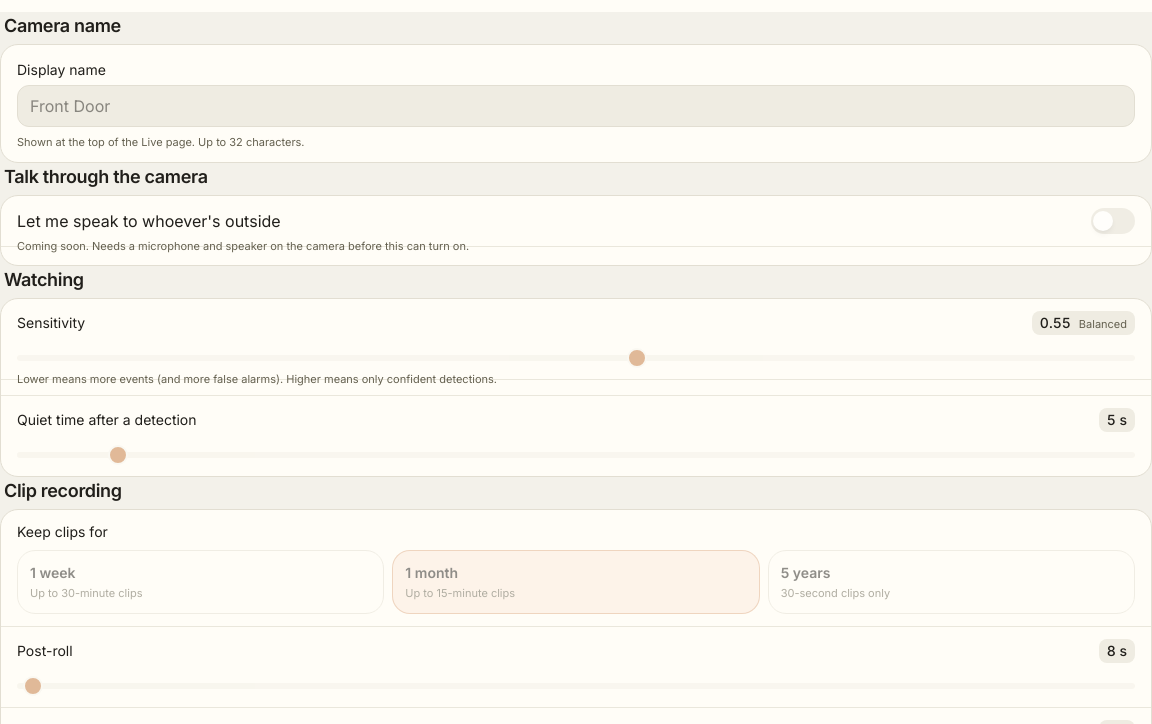
Scenario: DetectionSection › Given the sensitivity value moves across boundary values, When the slider changes, Then the plain-word qualifier updates with the numeric readout
The width and height of the screenshot is (1152, 724).
Set the slider named "detection sensitivity" to "0.4". click: (454, 358)
box: [17,355,1135,361]
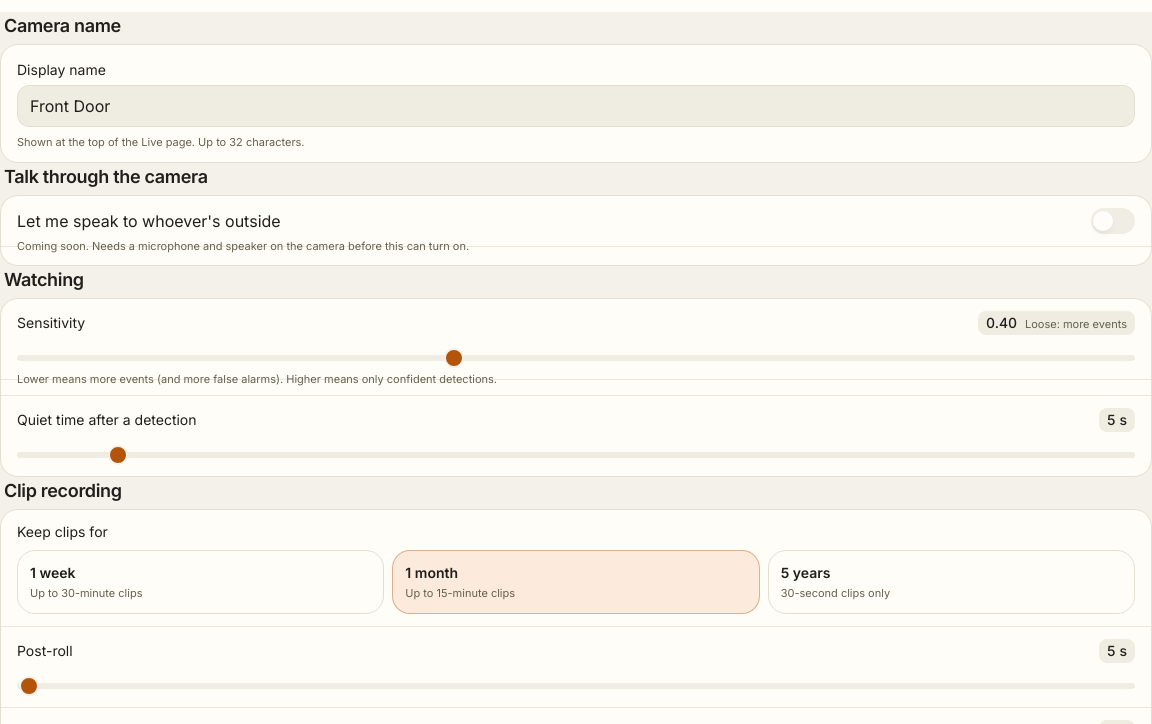
Expected: the text "0.40" is shown, [986,313,1017,333]
Expected: the text "Loose: more events" is shown, [1025,317,1127,332]
Set the slider named "detection sensitivity" to "0.45". click: (515, 358)
box: [17,355,1135,361]
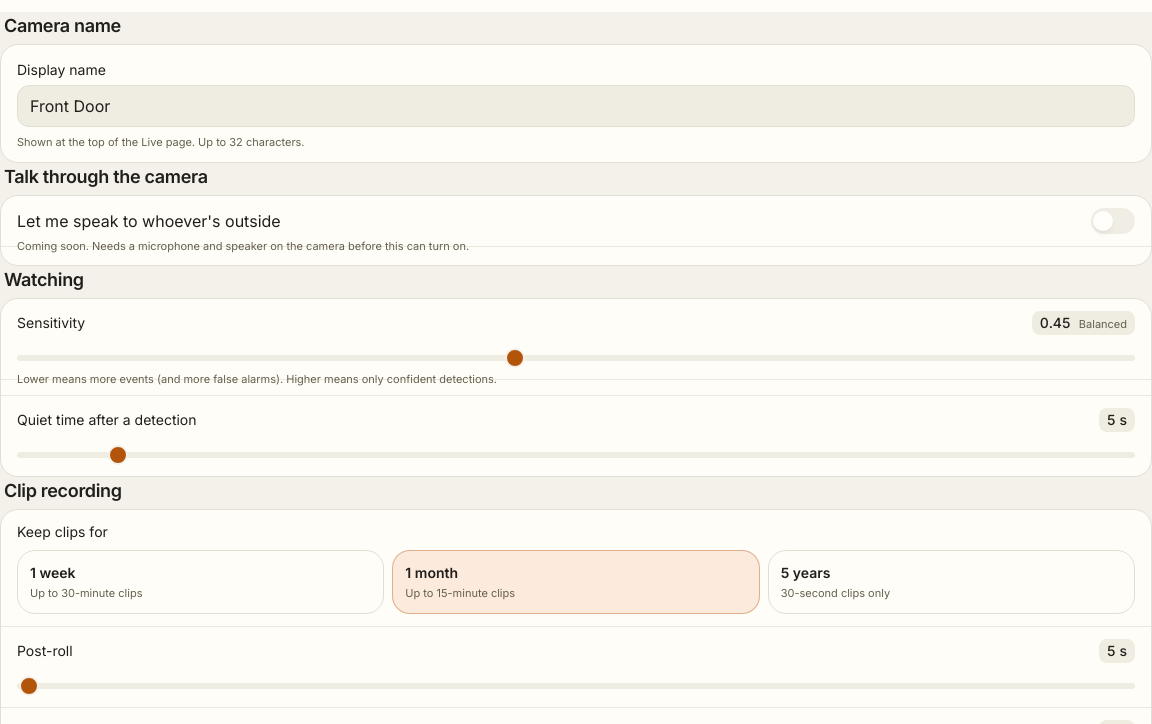
Expected: the text "0.45" is shown, [1040,313,1071,333]
Expected: the text "Balanced" is shown, [1079,317,1127,332]
Set the slider named "detection sensitivity" to "0.7". click: (821, 358)
box: [17,355,1135,361]
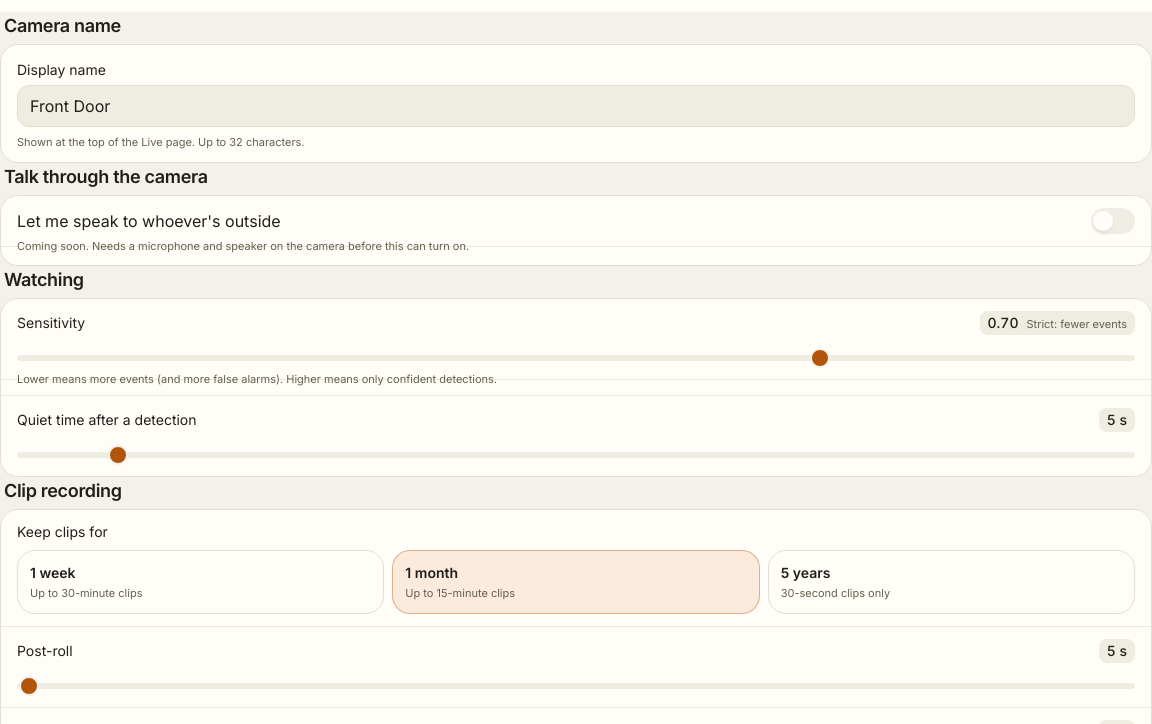
Expected: the text "0.70" is shown, [988,313,1018,333]
Expected: the text "Strict: fewer events" is shown, [1026,317,1127,332]
